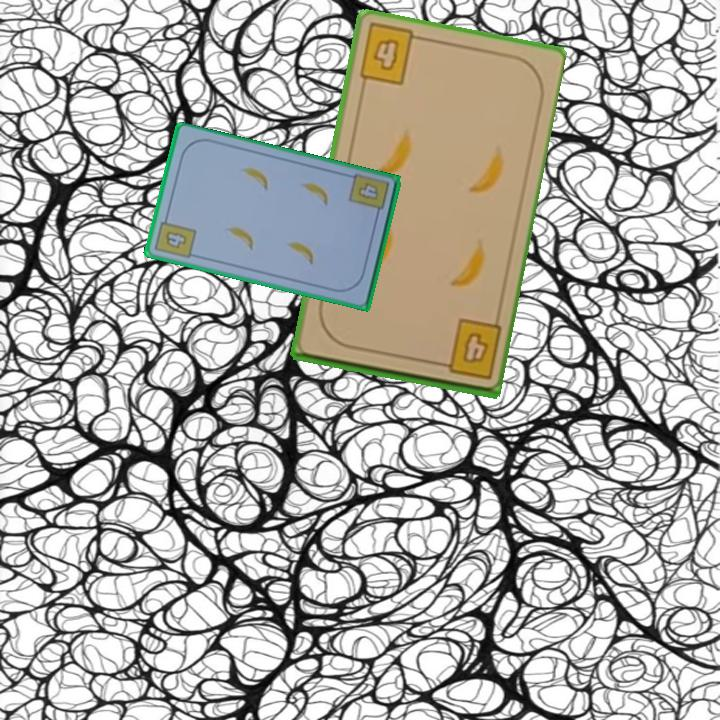4b: (430, 316, 504, 383), (355, 21, 426, 89), (151, 211, 199, 262), (354, 180, 381, 204)
